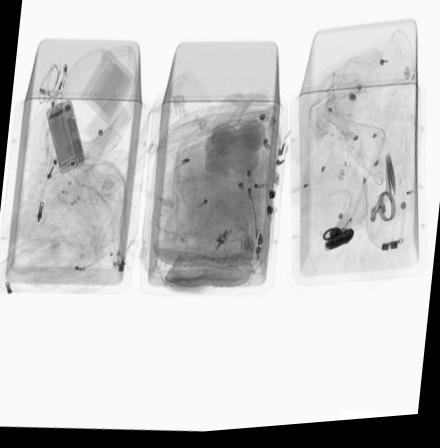Lighter: (335, 212, 359, 247)
